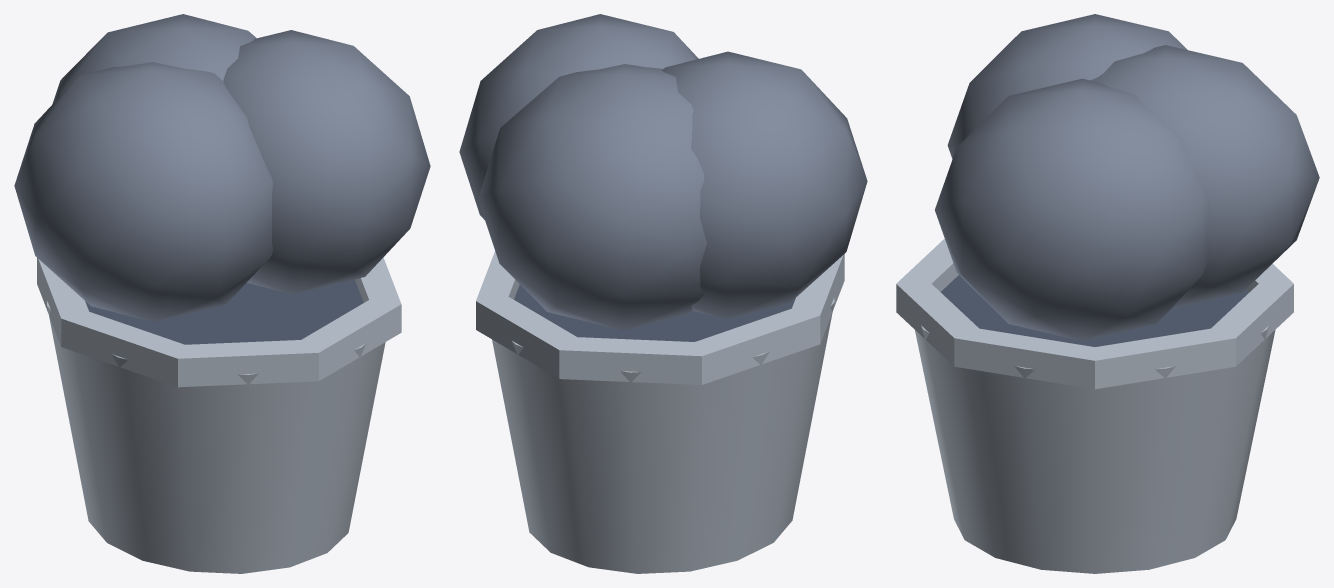
The model's file is garden-round-planter-lite.glb.
3 renders of one model, left to right at view 1: azimuth 30°, elevation 25°; view 2: azimuth 150°, elevation 25°; view 3: azimuth 270°, elevation 25°, orthographic.
Parts seen in each view (by area): view 1: garden-round-planter; view 2: garden-round-planter; view 3: garden-round-planter.
Part boxes in pixels (x1,y1,x2,y2): garden-round-planter: [14, 14, 430, 573]; garden-round-planter: [459, 14, 867, 573]; garden-round-planter: [896, 14, 1319, 573].
Size of the model in its own units: 0.75 by 0.9 by 0.75.
